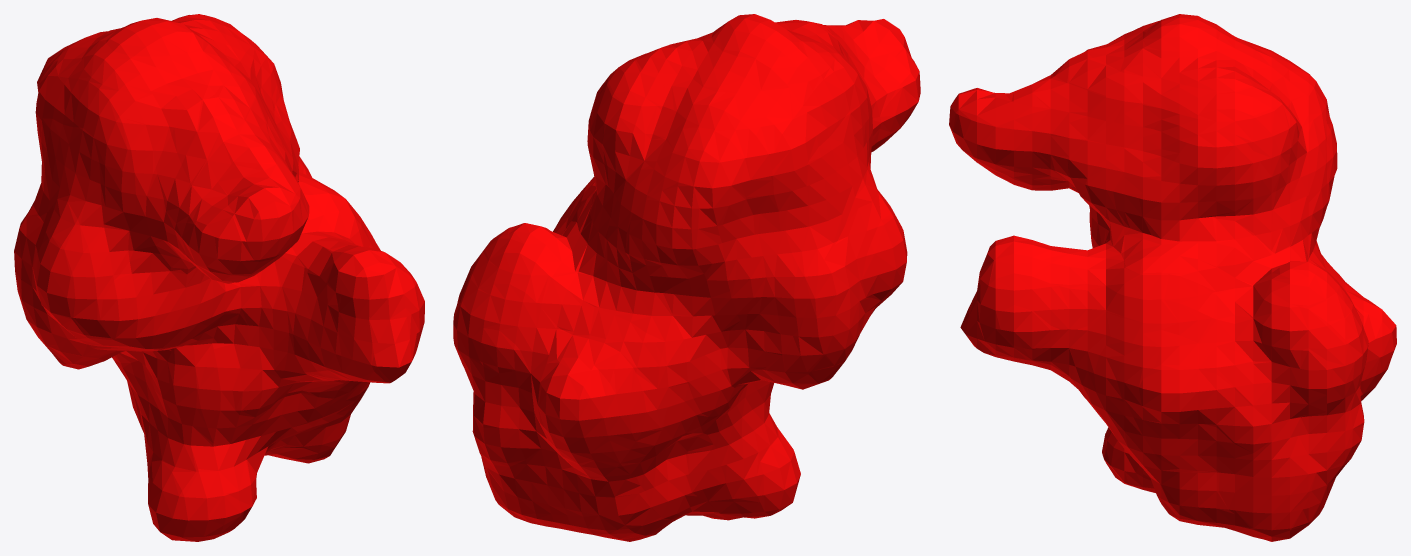
The model's file is prs_coarse.dae.
3 renders of one model, left to right at view 1: azimuth 30°, elevation 25°; view 2: azimuth 150°, elevation 25°; view 3: azimuth 270°, elevation 25°, orthographic. The views are drawn at different scales.
Parts seen in each view (by area): view 1: prs; view 2: prs; view 3: prs.
Part boxes in pixels (x1,y1,x2,y2): prs: [14, 14, 424, 541]; prs: [453, 14, 920, 541]; prs: [949, 14, 1396, 541].
Bounding box in the file's own units: 49.56 × 66.76 × 59.54.
